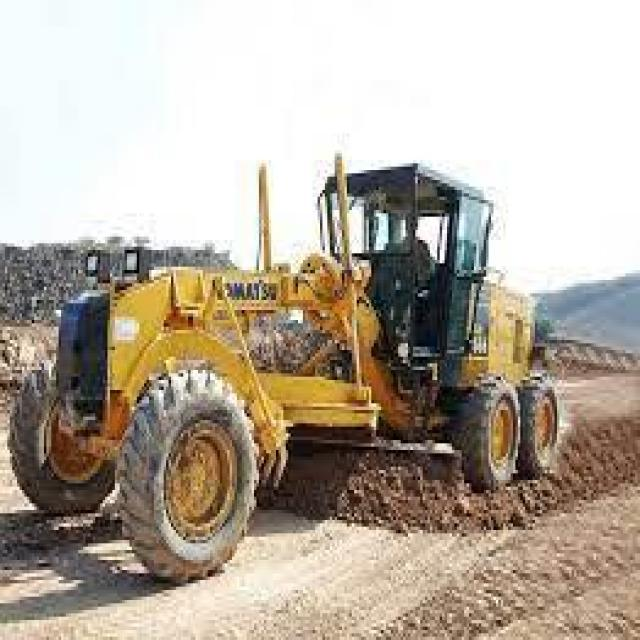Grader: (12, 130, 579, 580)
